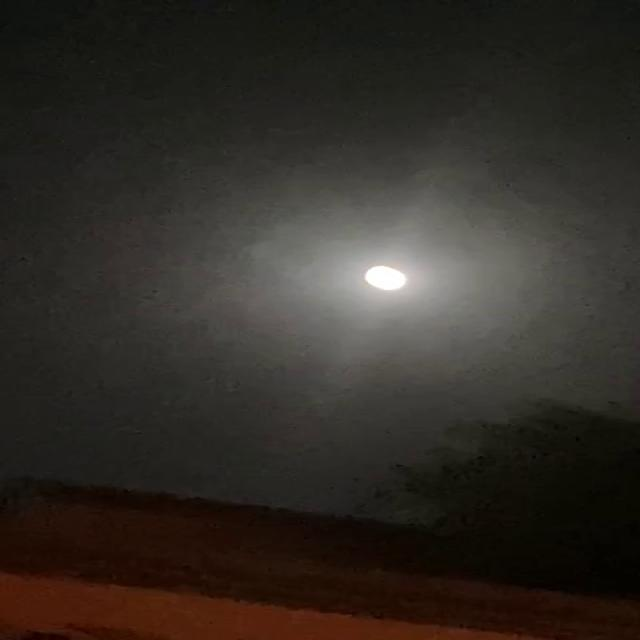moon: (332, 244, 396, 274)
